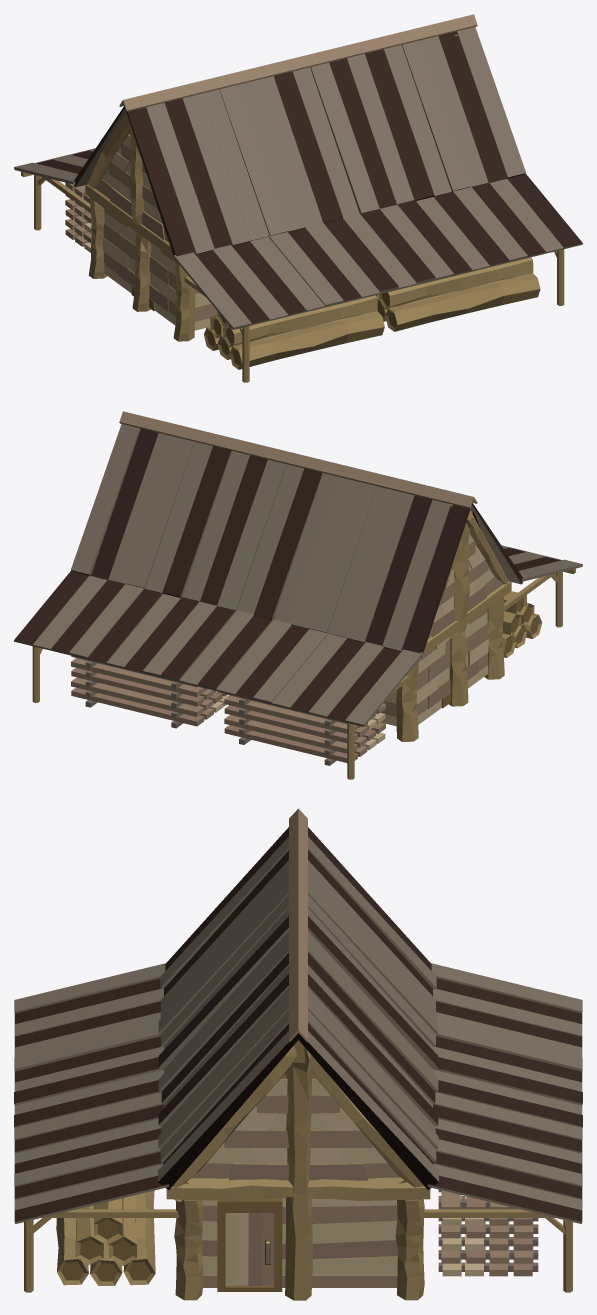
File: sawmill.zfix-v1.lod0.glb
3 renders of one model, top to bottom at view 1: azimuth 30°, elevation 25°; view 2: azimuth 150°, elevation 25°; view 3: azimuth 270°, elevation 25°, orthographic. The views are drawn at different scales.
Visible parts, largest first — view 1: Sawmill_Default_0; view 2: Sawmill_Default_0; view 3: Sawmill_Default_0.
Part boxes in pixels (x1=…): Sawmill_Default_0: x1=14, y1=14, x2=582, y2=382; Sawmill_Default_0: x1=14, y1=411, x2=582, y2=779; Sawmill_Default_0: x1=14, y1=808, x2=582, y2=1300.
Size of the model in its own units: 10.51 by 6.12 by 11.4.
1 material, 1 textured.
